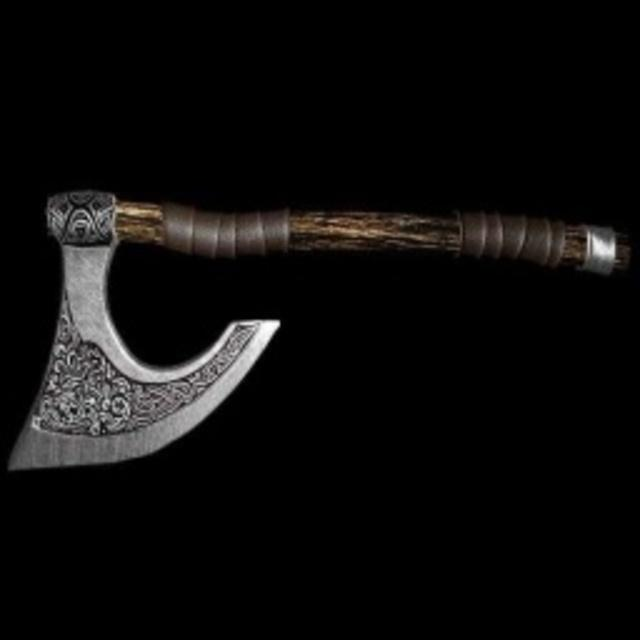ax: (2, 184, 632, 474)
